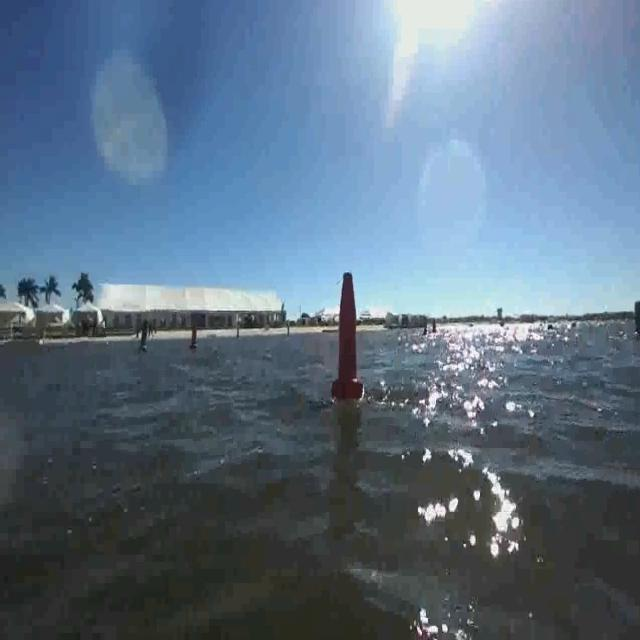green-column-buoy: (139, 322, 150, 353), (633, 300, 640, 340)
red-column-buoy: (333, 270, 365, 400), (188, 324, 198, 349)
